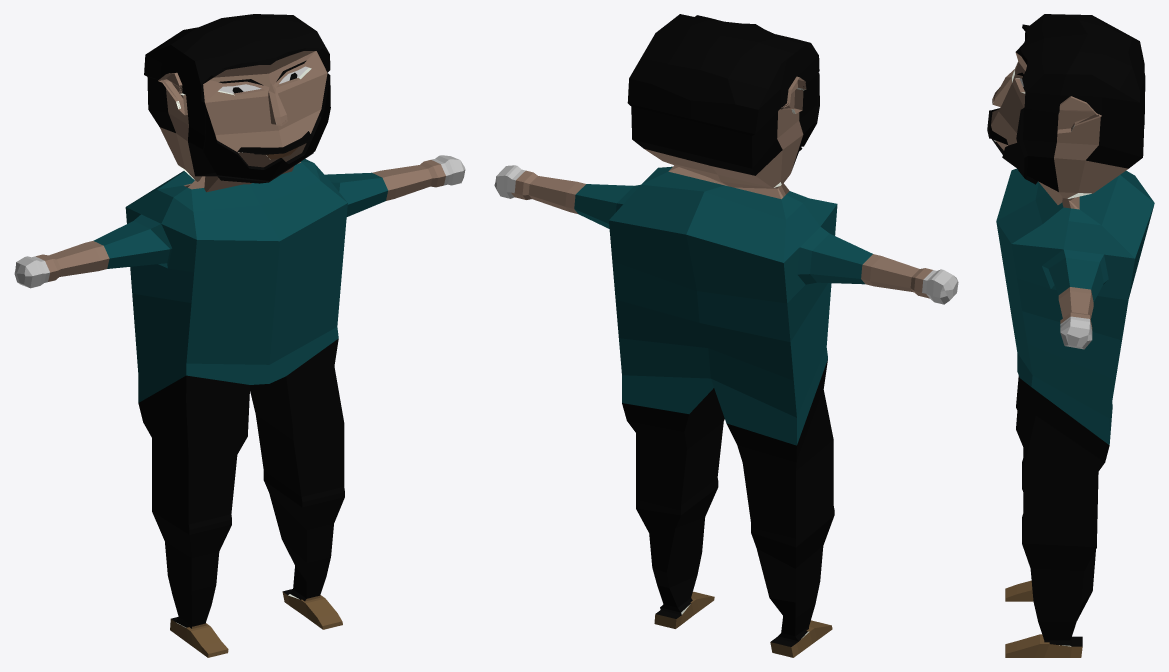
The model's file is basic-colored.glb.
The picture shows the model from 3 angles, left to right: view 1: azimuth 30°, elevation 25°; view 2: azimuth 150°, elevation 25°; view 3: azimuth 270°, elevation 25°; orthographic projection. The views are drawn at different scales.
Visible parts, largest first — view 1: Cube; view 2: Cube; view 3: Cube.
Part boxes in pixels (x1,y1,x2,y2): Cube: (14, 14, 465, 657); Cube: (494, 14, 958, 657); Cube: (987, 14, 1154, 657).
Size of the model in its own units: 16.25 by 20.67 by 5.31.
